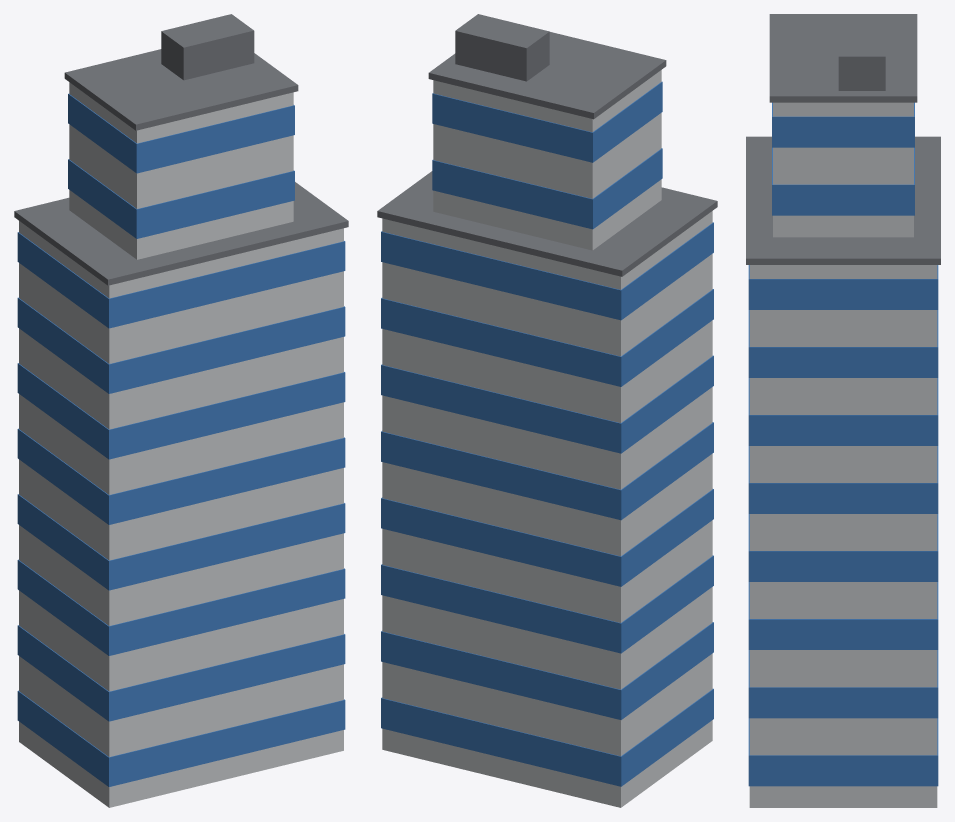
File: Building_Background_02.fbx
3 renders of one model, left to right at view 1: azimuth 30°, elevation 25°; view 2: azimuth 150°, elevation 25°; view 3: azimuth 270°, elevation 25°, orthographic. The views are drawn at different scales.
Parts seen in each view (by area): view 1: Building_Background_02_Structure, Building_Background_02_Windows, Building_Background_02_Trim; view 2: Building_Background_02_Structure, Building_Background_02_Windows, Building_Background_02_Trim; view 3: Building_Background_02_Structure, Building_Background_02_Windows, Building_Background_02_Trim.
Part boxes in pixels (x1,y1,x2,y2): Building_Background_02_Structure: (19, 82, 343, 807); Building_Background_02_Windows: (17, 93, 345, 786); Building_Background_02_Trim: (14, 14, 348, 285); Building_Background_02_Structure: (382, 70, 712, 807); Building_Background_02_Windows: (381, 81, 713, 786); Building_Background_02_Trim: (377, 14, 717, 276); Building_Background_02_Structure: (749, 102, 937, 807); Building_Background_02_Windows: (748, 102, 938, 786); Building_Background_02_Trim: (746, 14, 940, 264).
Bounding box in the file's own units: 12.3 × 34.2 × 8.3.
